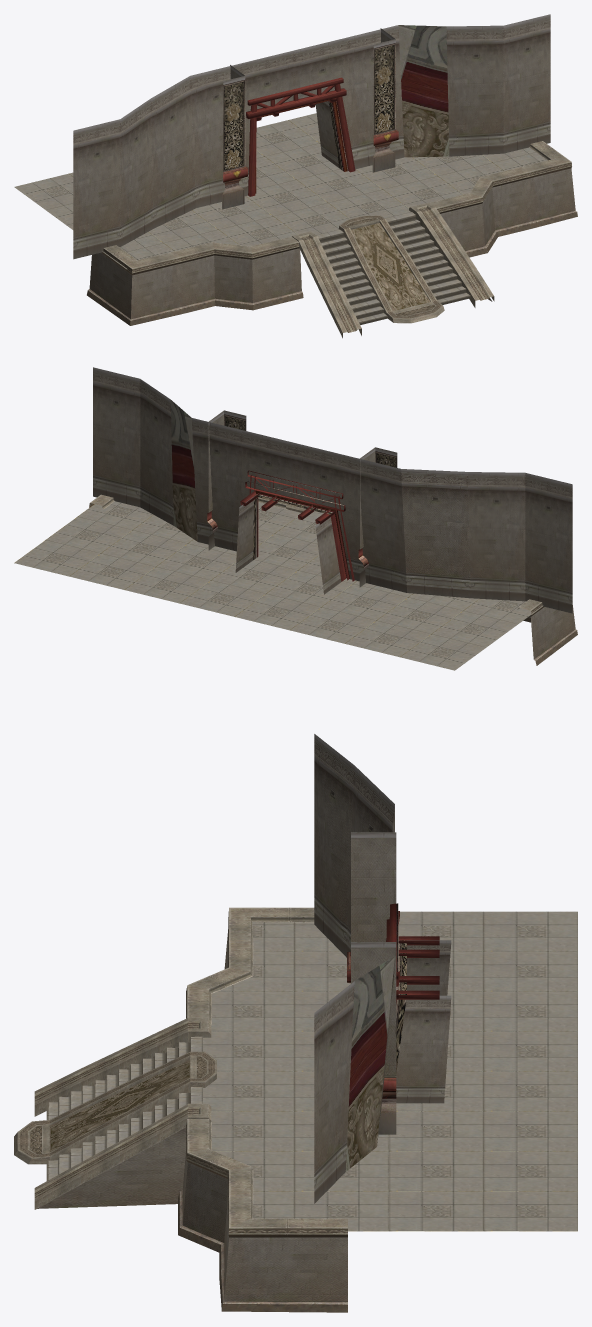
File: cj_luoyang_huanggong01_55_43_7949out.fbx
3 renders of one model, top to bottom at view 1: azimuth 30°, elevation 25°; view 2: azimuth 150°, elevation 25°; view 3: azimuth 270°, elevation 25°, orthographic. The views are drawn at different scales.
Visible parts, largest first — view 1: 0000_cj_luoyang_huanggong01, 0001_cj_luoyang_huanggong01; view 2: 0000_cj_luoyang_huanggong01; view 3: 0000_cj_luoyang_huanggong01, 0001_cj_luoyang_huanggong01.
Part boxes in pixels (x1,y1,x2,y2): 0000_cj_luoyang_huanggong01: [14, 14, 577, 338]; 0001_cj_luoyang_huanggong01: [316, 212, 470, 324]; 0000_cj_luoyang_huanggong01: [14, 367, 577, 670]; 0000_cj_luoyang_huanggong01: [14, 734, 577, 1312]; 0001_cj_luoyang_huanggong01: [46, 1036, 202, 1180].
Size of the model in its own units: 34.7 by 12.89 by 23.78.
